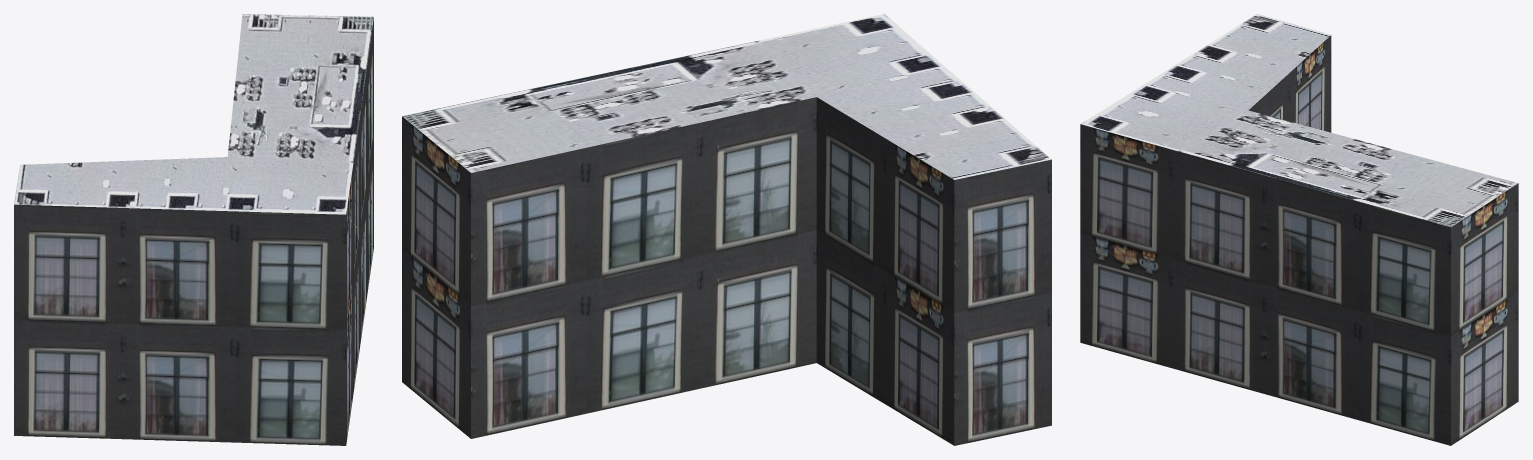
Rendered from ResTex__4221.fbx.
3 views of the same model, side by side, from view 1: azimuth 30°, elevation 25°; view 2: azimuth 150°, elevation 25°; view 3: azimuth 270°, elevation 25° (orthographic). The views are drawn at different scales.
Visible parts, largest first — view 1: CityEngineMaterial_22_m, CityEngineMaterial_4_m; view 2: CityEngineMaterial_22_m, CityEngineMaterial_4_m; view 3: CityEngineMaterial_22_m, CityEngineMaterial_4_m.
Part boxes in pixels (x1,y1,x2,y2): CityEngineMaterial_22_m: [14, 18, 373, 445]; CityEngineMaterial_4_m: [14, 14, 373, 214]; CityEngineMaterial_22_m: [402, 97, 1051, 445]; CityEngineMaterial_4_m: [402, 14, 1051, 179]; CityEngineMaterial_22_m: [1080, 35, 1518, 445]; CityEngineMaterial_4_m: [1080, 14, 1517, 227].
Size of the model in its own units: 12.56 by 6 by 10.9.
Materials: 2 (2 with a texture image).
